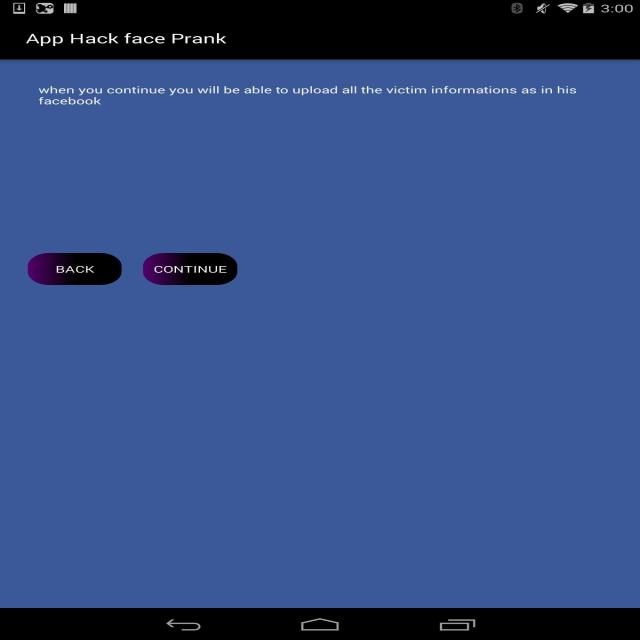button: (145, 252, 239, 284), (31, 252, 119, 284)
heading: (24, 31, 229, 51)
text: (36, 84, 580, 109)
